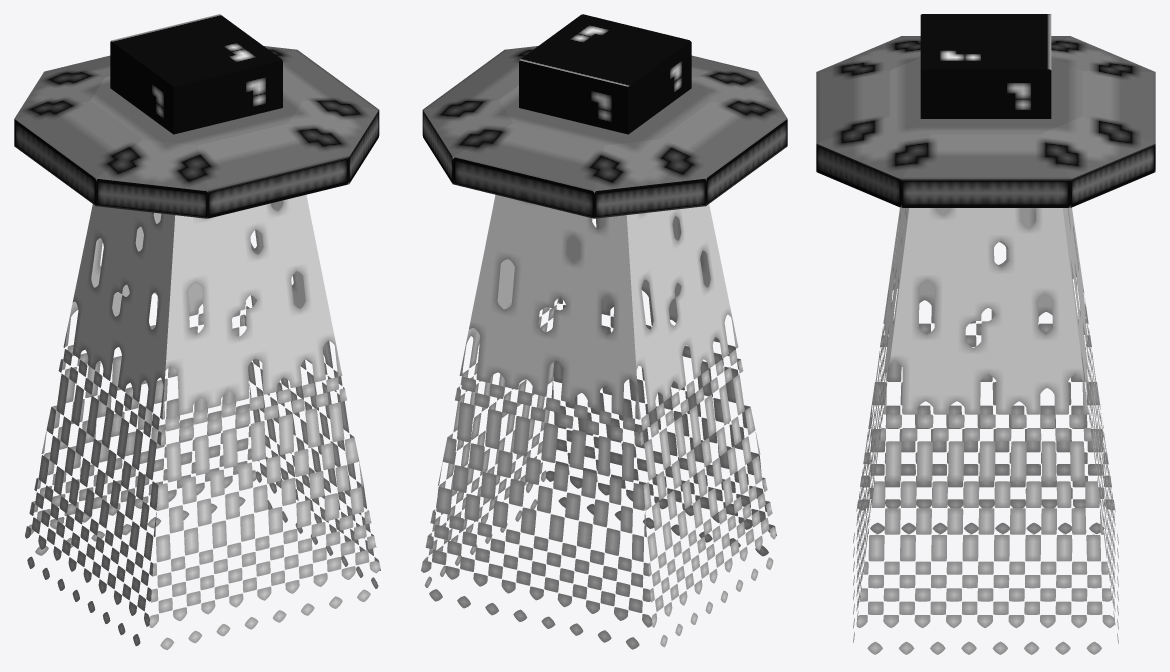
File: ufo.fbx
3 renders of one model, left to right at view 1: azimuth 30°, elevation 25°; view 2: azimuth 150°, elevation 25°; view 3: azimuth 270°, elevation 25°, orthographic. The views are drawn at different scales.
Parts seen in each view (by area): view 1: 立方体.028, 立方体.027; view 2: 立方体.028, 立方体.027; view 3: 立方体.028, 立方体.027.
Boxes of the visible parts, x1,y1,x2,y2 form: 立方体.028: (25, 194, 380, 649); 立方体.027: (14, 14, 379, 218); 立方体.028: (421, 194, 776, 649); 立方体.027: (422, 14, 787, 218); 立方体.028: (853, 207, 1118, 654); 立方体.027: (816, 14, 1155, 207).
Size of the model in its own units: 100 by 180 by 100.
